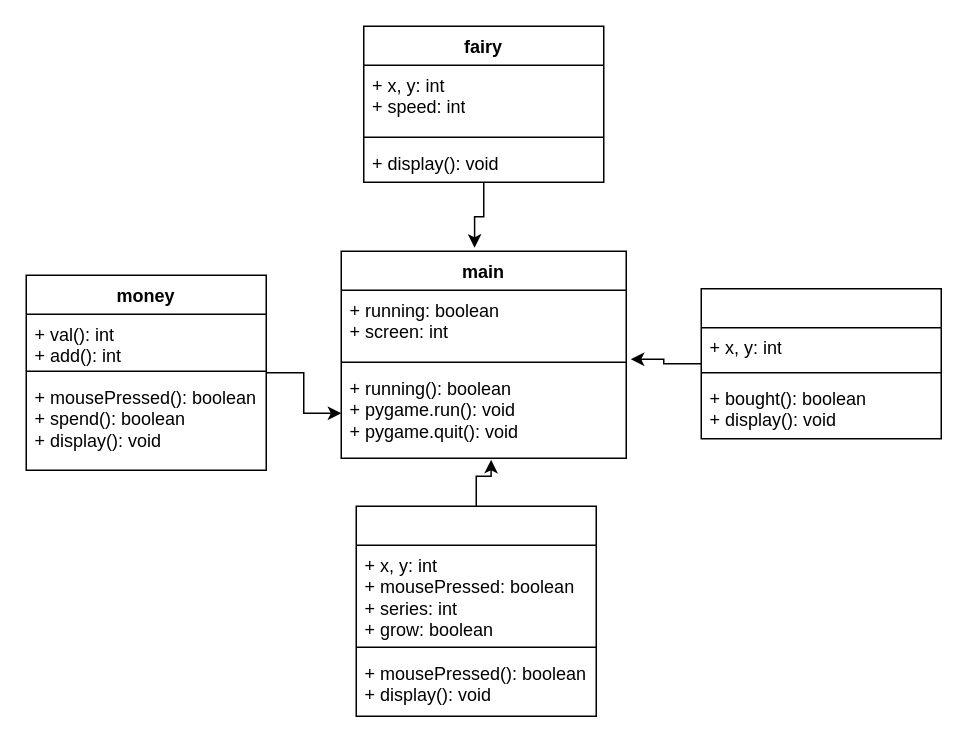
This 968x747 diagram has some shape labels left out. The shapes that lost their labels are listed below. From the top down, each one's box as (x1, y1, x2, y2) in pixels, then its label:
(700, 287, 941, 439): deco
(355, 505, 596, 716): plant
